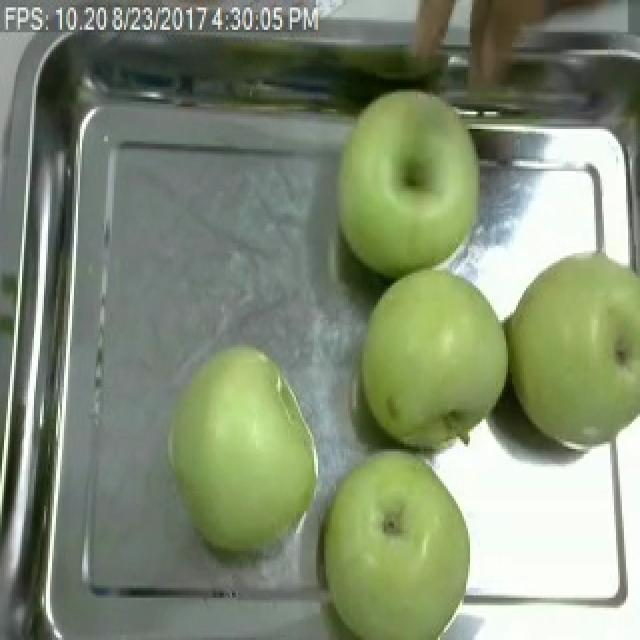50-_ripeness: (168, 341, 317, 567), (322, 451, 472, 639), (360, 275, 519, 450), (346, 79, 484, 257), (517, 252, 640, 444)
